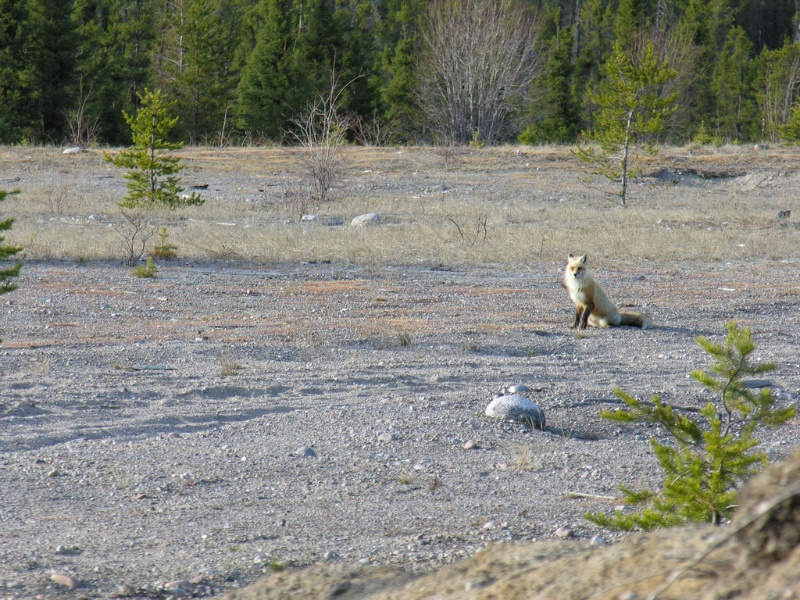fox: (560, 251, 655, 337)
